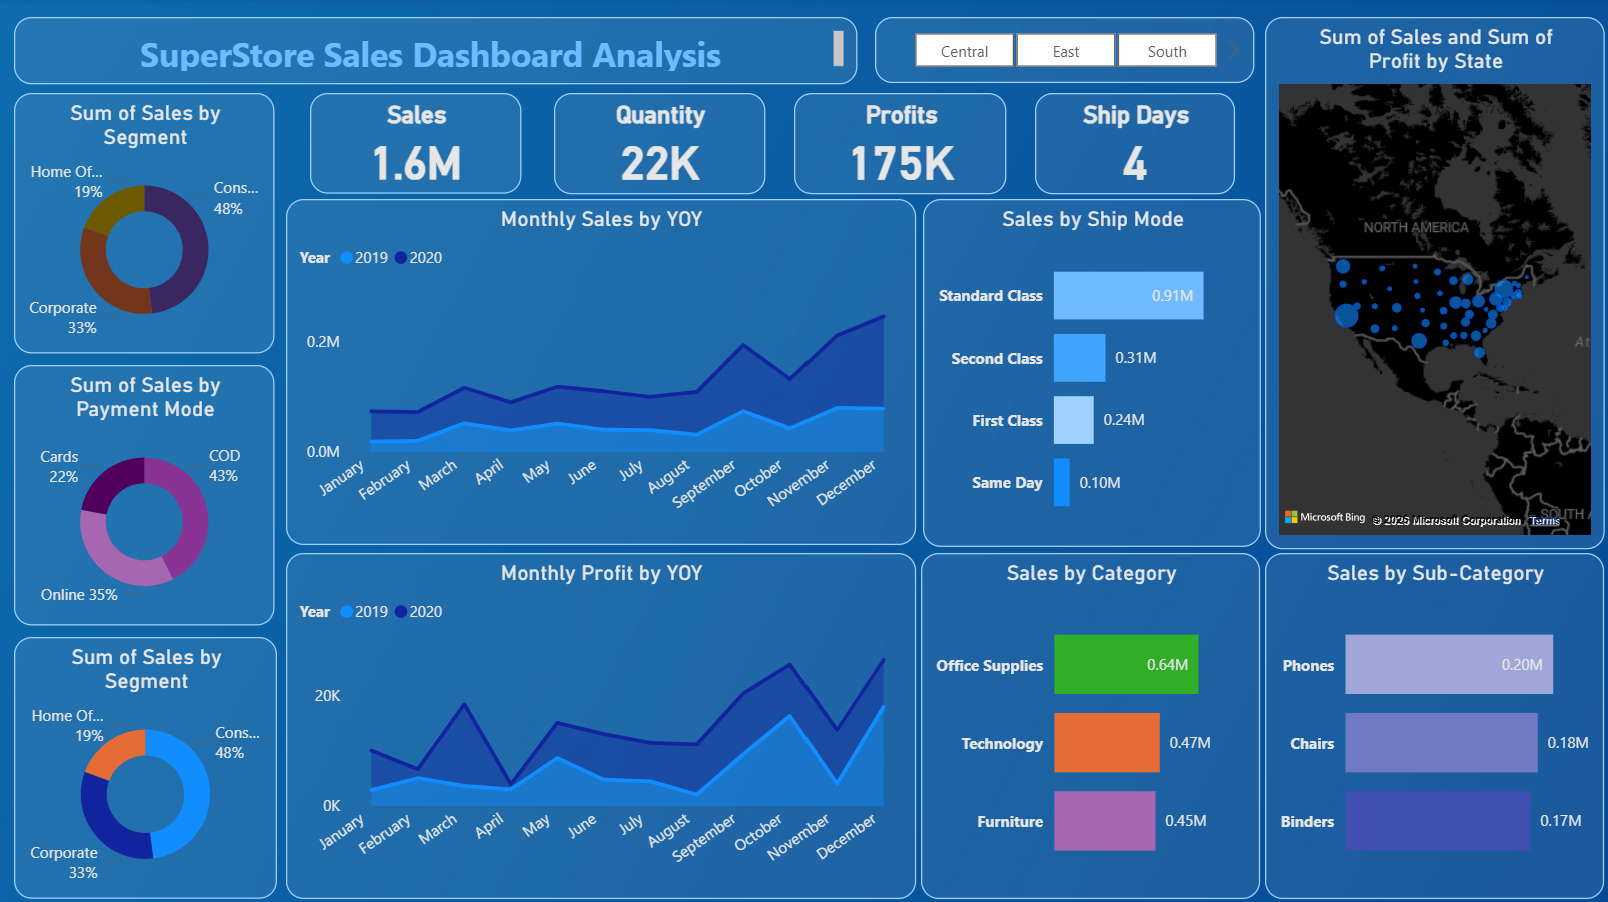

This screenshot's page, from the dashboard's own definition file:
{"tool":"powerbi","page":{"name":"Page 1","canvas":[1280,720],"ordinal":0},"visuals":[{"type":"barChart","title":"Sales by Category","fields":{"Category":["SuperStore_Sales_Dataset.Category"],"Y":["Sum(SuperStore_Sales_Dataset.Sales)"]},"box":[732.1,441.1,269.6,275],"z":0},{"type":"barChart","title":"Sales by Sub-Category","fields":{"Category":["SuperStore_Sales_Dataset.Sub-Category"],"Y":["Sum(SuperStore_Sales_Dataset.Sales)"]},"box":[1005.4,441.1,269.6,275],"z":1000},{"type":"barChart","title":"Sales by Ship Mode","fields":{"Y":["Sum(SuperStore_Sales_Dataset.Sales)"],"Category":["SuperStore_Sales_Dataset.Ship Mode"]},"box":[734.3,160.5,268.6,276.6],"z":2000},{"type":"stackedAreaChart","title":"Monthly Sales by YOY ","fields":{"Category":["SuperStore_Sales_Dataset.Order Date.Variation.Date Hierarchy.Month","SuperStore_Sales_Dataset.Order Date.Variation.Date Hierarchy.Day"],"Y":["Sum(SuperStore_Sales_Dataset.Sales)"],"Series":["SuperStore_Sales_Dataset.Order Date.Variation.Date Hierarchy.Year"]},"box":[228.6,160.7,500,275],"z":3000},{"type":"stackedAreaChart","title":"Monthly Profit by YOY ","fields":{"Category":["SuperStore_Sales_Dataset.Order Date.Variation.Date Hierarchy.Month","SuperStore_Sales_Dataset.Order Date.Variation.Date Hierarchy.Day"],"Series":["SuperStore_Sales_Dataset.Order Date.Variation.Date Hierarchy.Year"],"Y":["Sum(SuperStore_Sales_Dataset.Profit)"]},"box":[228.6,441.1,500,275],"z":4000},{"type":"map","title":"Sum of Sales and Sum of Profit by State","fields":{"Category":["SuperStore_Sales_Dataset.State"],"Size":["Sum(SuperStore_Sales_Dataset.Sales)"]},"box":[1006.1,15.9,270.2,422.8],"z":5000},{"type":"donutChart","fields":{"Category":["SuperStore_Sales_Dataset.Segment"],"Y":["Sum(SuperStore_Sales_Dataset.Sales)"]},"box":[12.5,76.8,207.1,207.1],"z":6000},{"type":"donutChart","fields":{"Category":["SuperStore_Sales_Dataset.Payment Mode"],"Y":["Sum(SuperStore_Sales_Dataset.Sales)"]},"box":[12.5,292.9,207.1,207.1],"z":7000},{"type":"card","title":"Sales","fields":{"Values":["Sum(SuperStore_Sales_Dataset.Sales)"]},"box":[248.2,76.8,167.9,80],"z":8000},{"type":"card","title":"Profits","fields":{"Values":["Sum(SuperStore_Sales_Dataset.Profit)"]},"box":[632.1,76.8,167.9,80.4],"z":9000},{"type":"card","title":"Quantity","fields":{"Values":["Sum(SuperStore_Sales_Dataset.Quantity)"]},"box":[441.1,76.8,167.9,80.4],"z":10000},{"type":"slicer","fields":{"Values":["SuperStore_Sales_Dataset.Region"]},"box":[696.6,15.3,301.7,52.5],"z":11000},{"type":"textbox","box":[12.5,16.1,669.6,53.6],"z":12000},{"type":"card","title":"Ship Days","fields":{"Values":["Avg(SuperStore_Sales_Dataset.AvgDelivery)"]},"box":[823.2,76.8,158.9,80.4],"z":13000},{"type":"donutChart","fields":{"Y":["Sum(SuperStore_Sales_Dataset.Sales)"],"Category":["SuperStore_Sales_Dataset.Segment"]},"box":[12.5,508.9,208.9,208],"z":14000}]}

Visuals, with their boxes in screenshot pixels (x1, y1, x2, y2), scaled from the page's 1280x720 canvas onto the 1608x902 screenshot:
"Sales by Category" barChart: 920,553,1258,897
"Sales by Sub-Category" barChart: 1263,553,1602,897
"Sales by Ship Mode" barChart: 922,201,1260,548
"Monthly Sales by YOY " stackedAreaChart: 287,201,915,546
"Monthly Profit by YOY " stackedAreaChart: 287,553,915,897
"Sum of Sales and Sum of Profit by State" map: 1264,20,1603,550
donutChart - SuperStore_Sales_Dataset.Segment x Sum(SuperStore_Sales_Dataset.Sales): 16,96,276,356
donutChart - SuperStore_Sales_Dataset.Payment Mode x Sum(SuperStore_Sales_Dataset.Sales): 16,367,276,626
"Sales" card: 312,96,523,196
"Profits" card: 794,96,1005,197
"Quantity" card: 554,96,765,197
slicer - SuperStore_Sales_Dataset.Region: 875,19,1254,85
textbox: 16,20,857,87
"Ship Days" card: 1034,96,1234,197
donutChart - Sum(SuperStore_Sales_Dataset.Sales) x SuperStore_Sales_Dataset.Segment: 16,638,278,898
